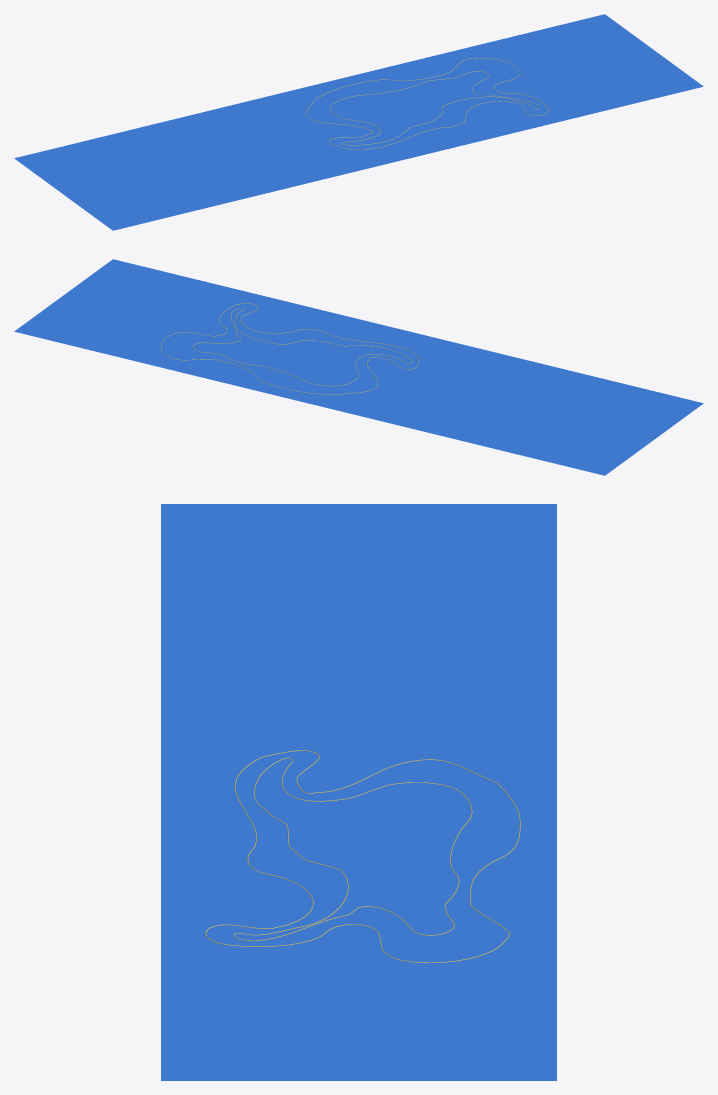
Rendered from Track.glb.
The picture shows the model from 3 angles, top to bottom: view 1: azimuth 30°, elevation 25°; view 2: azimuth 150°, elevation 25°; view 3: azimuth 270°, elevation 25°; orthographic projection. The views are drawn at different scales.
Visible parts, largest first — view 1: Plane, BézierCurve, BézierCurve.001; view 2: Plane, BézierCurve, BézierCurve.001; view 3: Plane, BézierCurve, BézierCurve.001.
Boxes of the visible parts, x1,y1,x2,y2 form: Plane: [14, 14, 703, 230]; BézierCurve: [305, 58, 548, 149]; BézierCurve.001: [330, 71, 539, 145]; Plane: [14, 259, 703, 475]; BézierCurve: [161, 303, 419, 394]; BézierCurve.001: [193, 308, 412, 386]; Plane: [161, 504, 556, 1080]; BézierCurve: [205, 750, 520, 962]; BézierCurve.001: [233, 757, 472, 940].
Size of the model in its own units: 2207 by 1.34 by 641.
